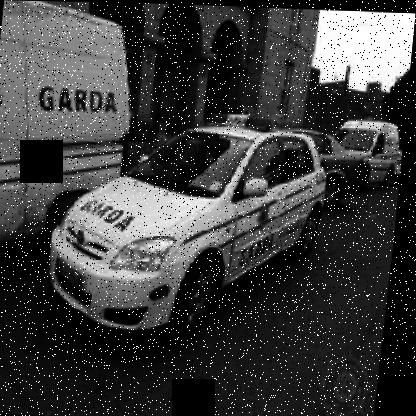emergency: (41, 101, 338, 345), (0, 1, 148, 276), (326, 103, 407, 198)
not_emergency: (272, 116, 376, 197)
